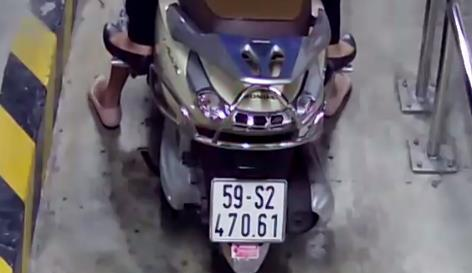lisence: (208, 177, 285, 244)
